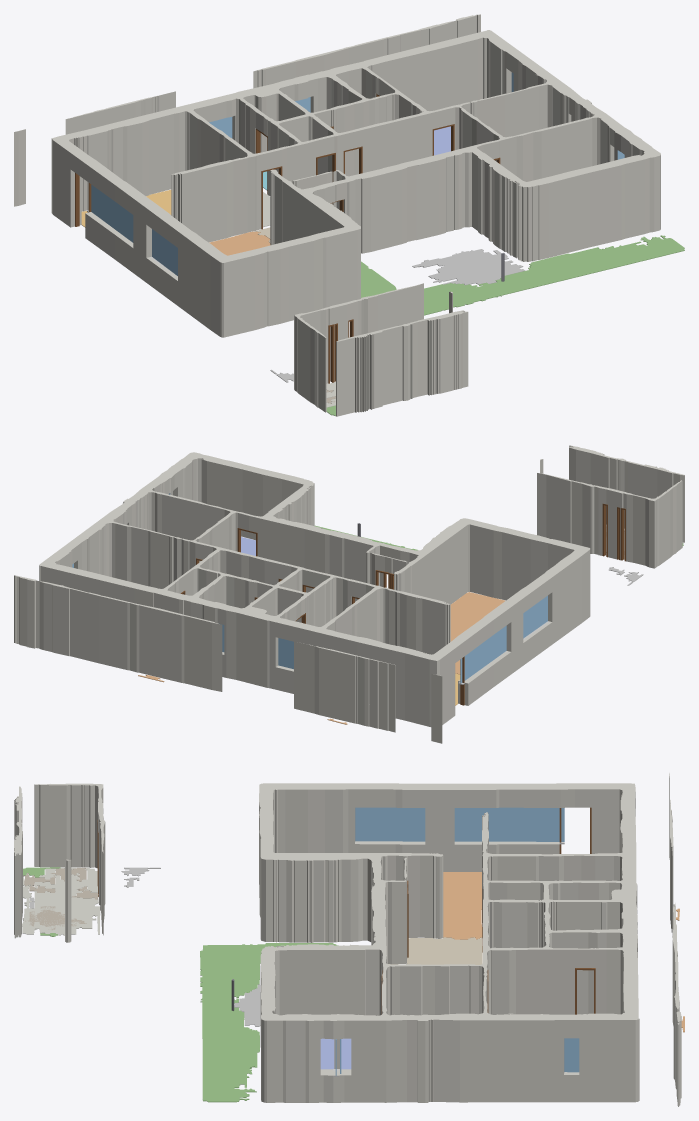
3 renders of one model, top to bottom at view 1: azimuth 30°, elevation 25°; view 2: azimuth 150°, elevation 25°; view 3: azimuth 270°, elevation 25°, orthographic. The views are drawn at different scales.
Visible parts, largest first — view 1: walls, floor_2_Outdoor, floor_24_Garage, window_20, floor_5_Living_Room, window_22; view 2: walls, floor_5_Living_Room, window_20, window_22; view 3: walls, floor_2_Outdoor, window_20, floor_25_Undefined, floor_5_Living_Room, window_22, floor_14_Entry, floor_8_Bed_Room, floor_24_Garage, floor_16_Storage, window_19.
Part boxes in pixels (x1,y1,x2,y2): walls: (14,14,660,416); floor_2_Outdoor: (361,235,684,315); floor_24_Garage: (412,249,525,285); window_20: (91,184,133,242); floor_5_Living_Room: (209,231,270,255); window_22: (152,229,177,275); walls: (14,445,684,743); floor_5_Living_Room: (450,592,505,674); window_20: (460,625,506,683); window_22: (523,595,547,638); walls: (14,773,681,1106); floor_2_Outdoor: (200,943,338,1102); window_20: (454,807,564,841); floor_25_Undefined: (22,867,100,935); floor_5_Living_Room: (443,872,482,939); window_22: (355,807,425,841); floor_14_Entry: (388,937,482,964); floor_8_Bed_Room: (320,1038,351,1069); floor_24_Garage: (234,984,260,1026); floor_16_Storage: (25,906,86,930); window_19: (564,1038,579,1072).
Bounding box in the file's own units: 17.8 × 2.72 × 19.98.
